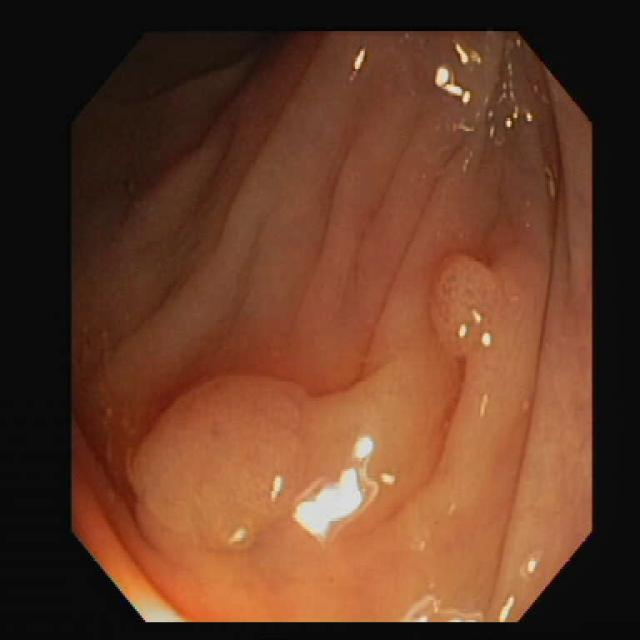tumor: (130, 378, 327, 547), (430, 253, 512, 362)
